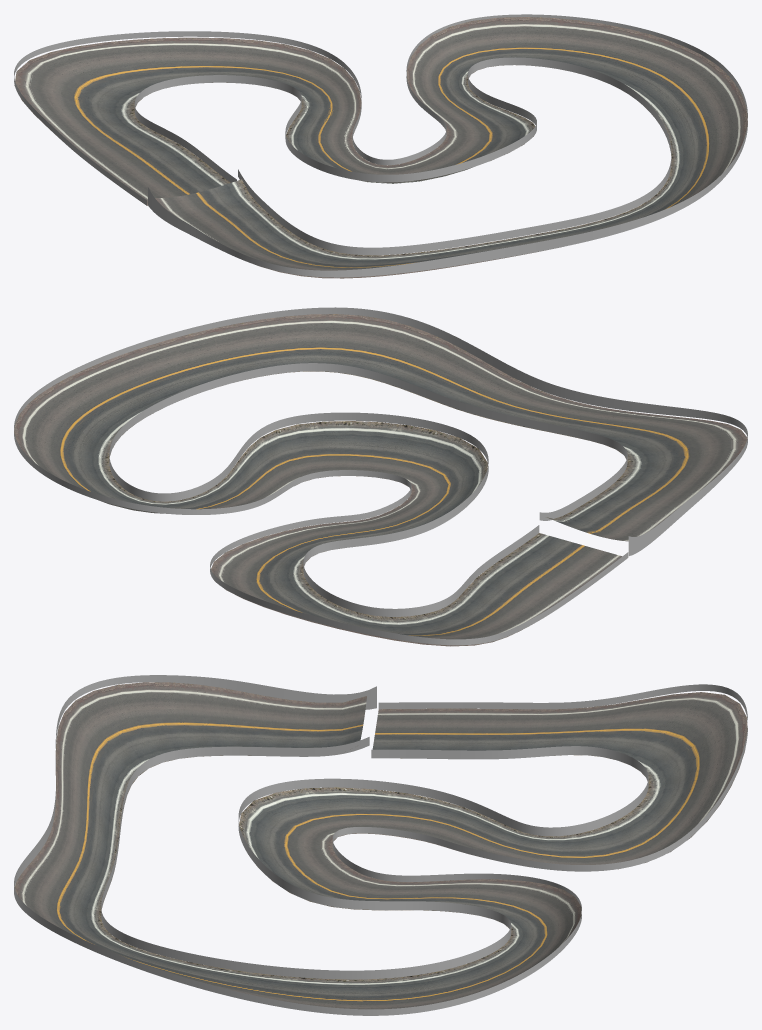
Rendered from long_road.fbx.
3 views of the same model, one above another, from view 1: azimuth 30°, elevation 25°; view 2: azimuth 150°, elevation 25°; view 3: azimuth 270°, elevation 25° (orthographic). The views are drawn at different scales.
Parts seen in each view (by area): view 1: nurbsToPoly1, nurbsToPoly3, nurbsToPoly2; view 2: nurbsToPoly1, nurbsToPoly3, nurbsToPoly2; view 3: nurbsToPoly1, nurbsToPoly2, nurbsToPoly3.
Boxes of the visible parts, x1=… form: nurbsToPoly1: x1=14, y1=17, x2=747, y2=278; nurbsToPoly3: x1=14, y1=14, x2=747, y2=277; nurbsToPoly2: x1=134, y1=57, x2=671, y2=255; nurbsToPoly1: x1=14, y1=314, x2=747, y2=646; nurbsToPoly3: x1=14, y1=307, x2=747, y2=645; nurbsToPoly2: x1=109, y1=363, x2=627, y2=616; nurbsToPoly1: x1=14, y1=682, x2=747, y2=1009; nurbsToPoly2: x1=101, y1=737, x2=648, y2=979; nurbsToPoly3: x1=14, y1=675, x2=747, y2=1015.
Bounding box in the file's own units: 146 × 10.17 × 140.
